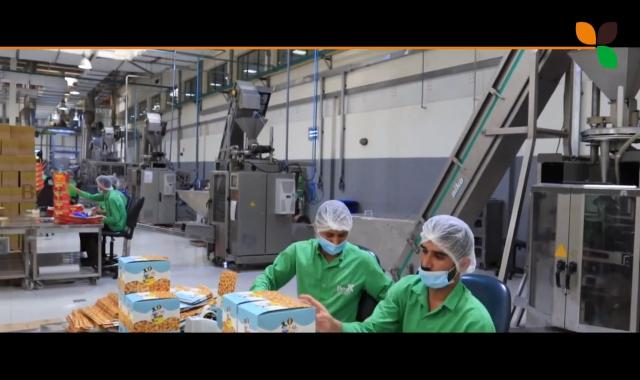hairnet: (419, 215, 477, 276), (316, 199, 352, 246), (96, 174, 116, 193)
